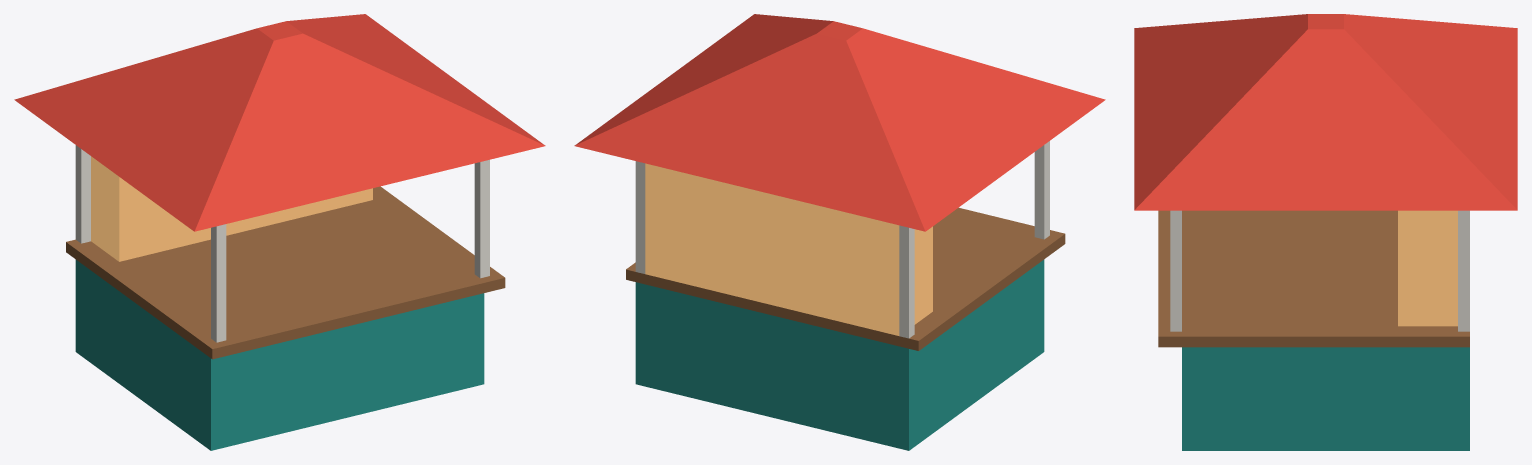
File: prop_bh_kiosk.glb
3 views of the same model, side by side, from view 1: azimuth 30°, elevation 25°; view 2: azimuth 150°, elevation 25°; view 3: azimuth 270°, elevation 25° (orthographic). The views are drawn at different scales.
Visible parts, largest first — view 1: prop_bh_kiosk; view 2: prop_bh_kiosk; view 3: prop_bh_kiosk.
Boxes of the visible parts, x1,y1,x2,y2 form: prop_bh_kiosk: (14,14,545,450); prop_bh_kiosk: (574,14,1105,450); prop_bh_kiosk: (1134,14,1517,450).
Size of what is drawn, in the model's own units: 3.6 by 3.3 by 3.2.
